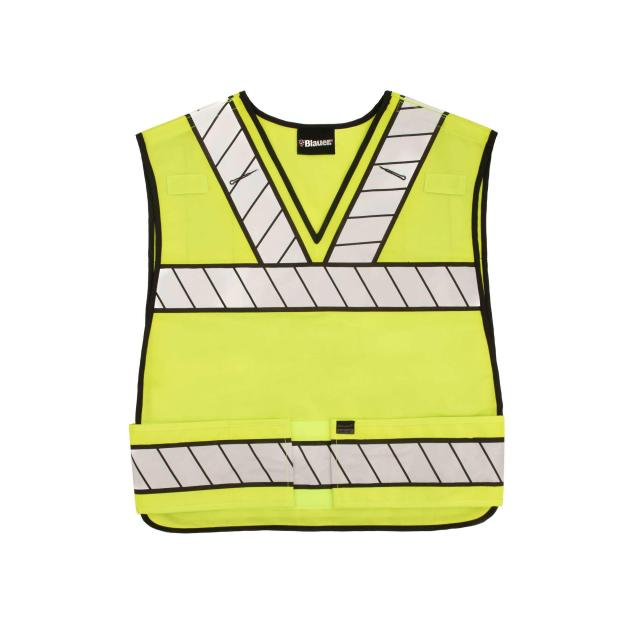Vest: (132, 84, 506, 532)
